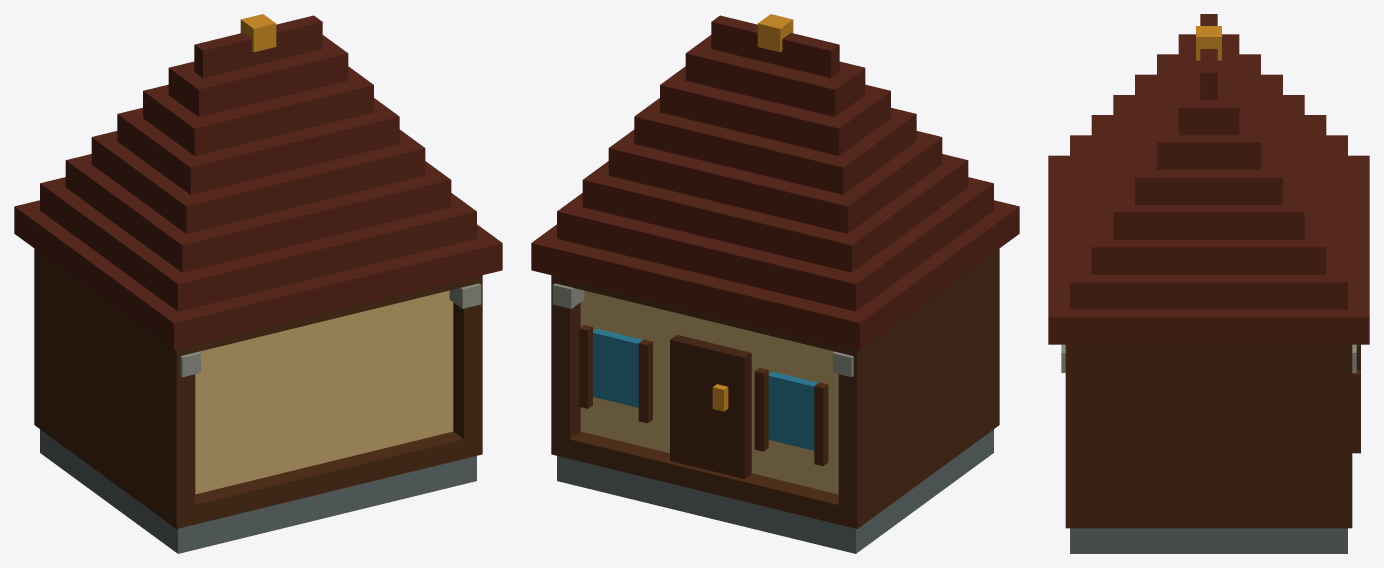
Rendered from meadow_cottage.obj.
3 renders of one model, left to right at view 1: azimuth 30°, elevation 25°; view 2: azimuth 150°, elevation 25°; view 3: azimuth 270°, elevation 25°, orthographic.
Parts seen in each view (by area): view 1: roof, timber, plaster, stone, stone_light, gold; view 2: roof, timber, plaster, stone, bark, glass_blue, gold, stone_light; view 3: roof, timber, stone, gold.
Boxes of the visible parts, left/top/right/bottom form: roof: left=14, top=15, right=502, bottom=350; timber: left=34, top=248, right=482, bottom=528; plaster: left=195, top=290, right=453, bottom=494; stone: left=40, top=429, right=476, bottom=553; stone_light: left=180, top=283, right=481, bottom=377; gold: left=240, top=14, right=276, bottom=52; roof: left=531, top=15, right=1019, bottom=350; timber: left=551, top=248, right=999, bottom=528; plaster: left=580, top=290, right=838, bottom=494; stone: left=557, top=429, right=993, bottom=553; bark: left=670, top=334, right=751, bottom=478; glass_blue: left=593, top=329, right=818, bottom=450; gold: left=712, top=14, right=793, bottom=411; stone_light: left=552, top=283, right=853, bottom=377; roof: left=1048, top=14, right=1369, bottom=344; timber: left=1065, top=344, right=1360, bottom=528; stone: left=1070, top=528, right=1347, bottom=553; gold: left=1196, top=26, right=1221, bottom=60.
Size of the model in its own units: 4.4 by 5.7 by 3.7.
